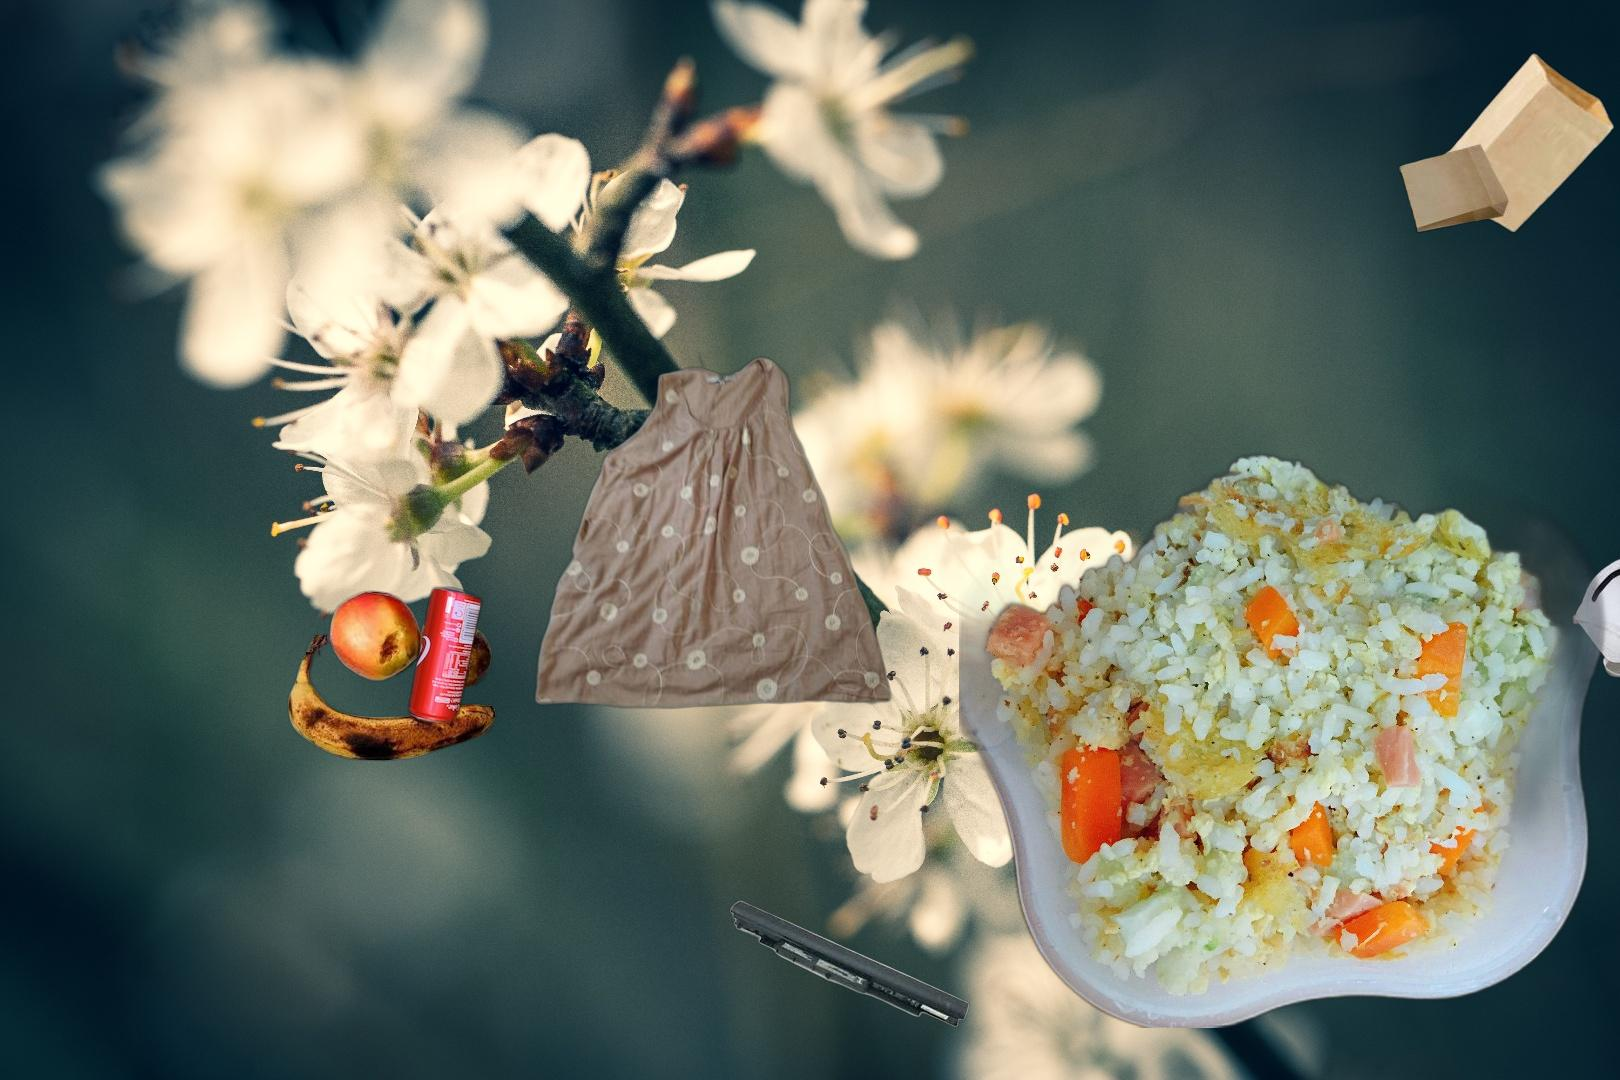battery: (727, 897, 972, 1031)
biological: (959, 368, 1612, 1028), (271, 588, 505, 764)
clothes: (532, 350, 896, 712)
metal-cans: (405, 581, 487, 729)
paper-bag: (1396, 49, 1618, 236)
trash: (1568, 542, 1620, 742)
